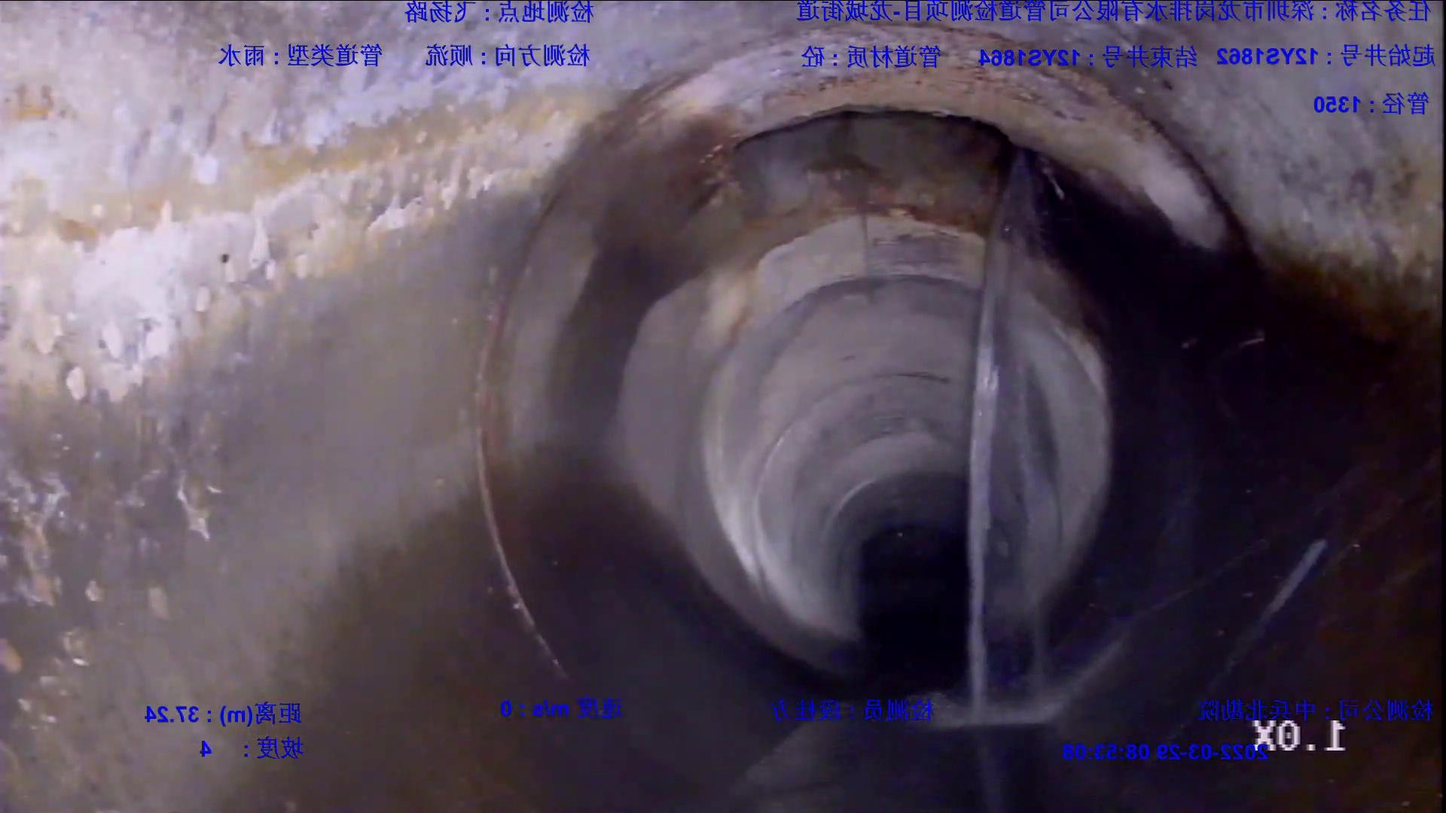PL: (701, 92, 1020, 239)
SL: (926, 141, 1069, 739)
